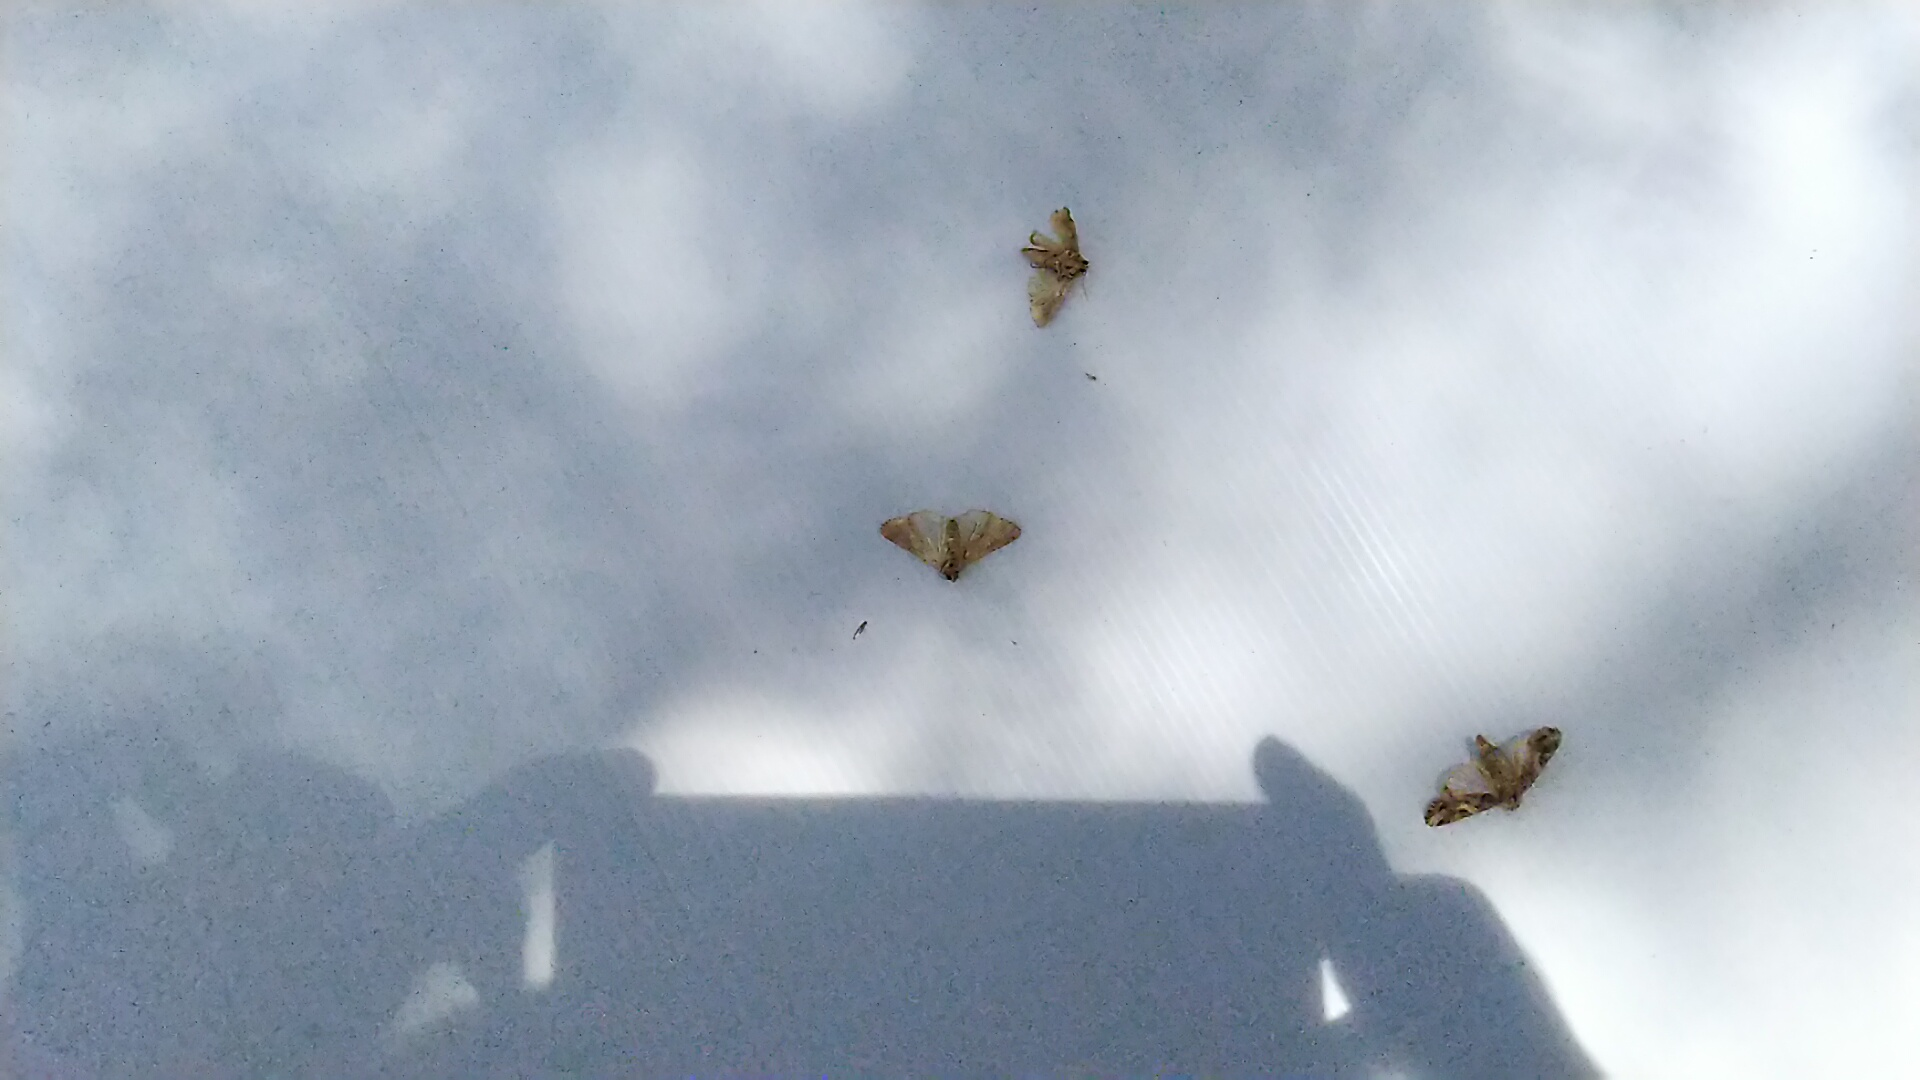INS-B: (1412, 694, 1576, 837), (855, 495, 1054, 582), (1004, 191, 1112, 328)
